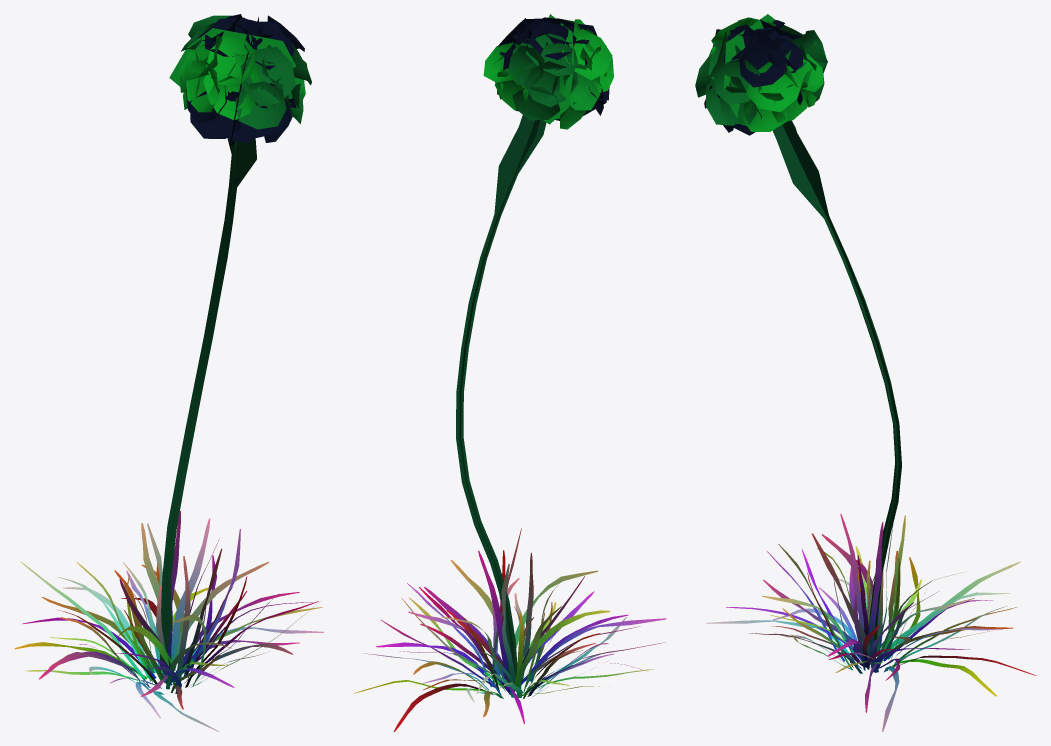
Rendered from Sea_Thrift_vkbgaihha_High_vkbgaihha_VarB_LOD0.fbx.
3 renders of one model, left to right at view 1: azimuth 30°, elevation 25°; view 2: azimuth 150°, elevation 25°; view 3: azimuth 270°, elevation 25°, orthographic. The views are drawn at different scales.
Parts seen in each view (by area): view 1: _ndyj_VarB_LOD0; view 2: _ndyj_VarB_LOD0; view 3: _ndyj_VarB_LOD0.
Boxes of the visible parts, box(x1,y1,x2,y2) form: _ndyj_VarB_LOD0: box(14, 14, 324, 731); _ndyj_VarB_LOD0: box(354, 14, 666, 731); _ndyj_VarB_LOD0: box(695, 14, 1036, 731).
Size of the model in its own units: 8.01 by 17.16 by 8.18.
